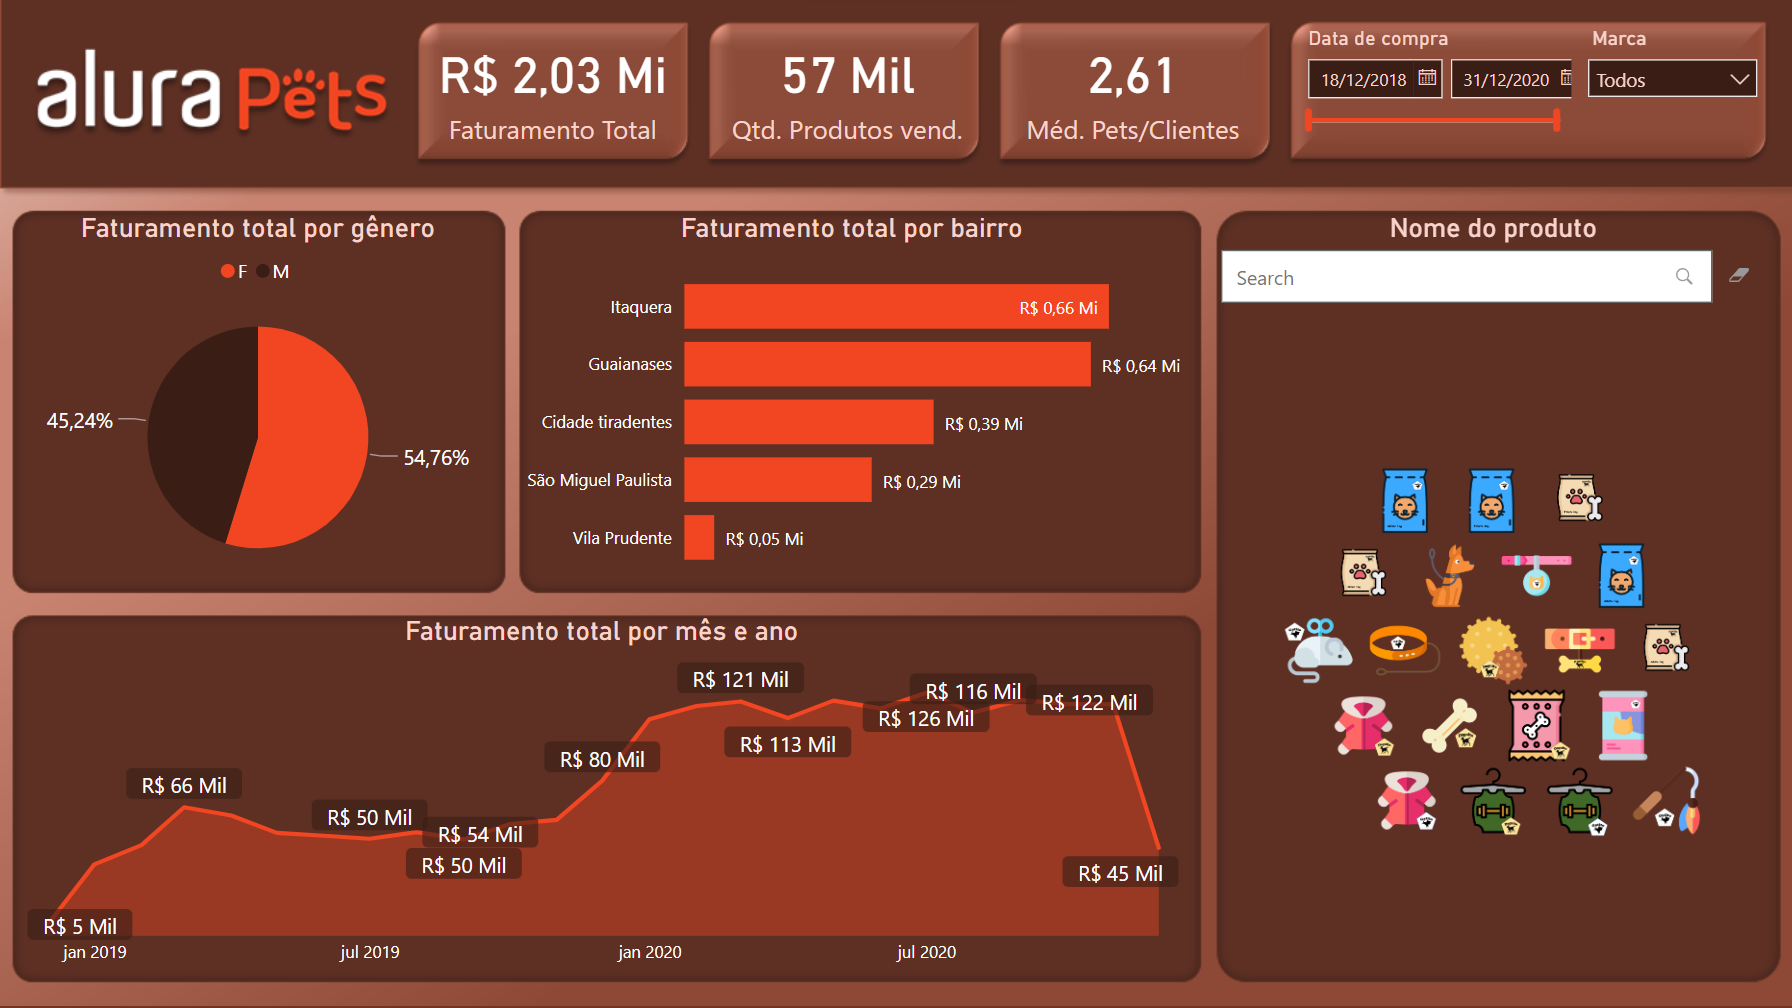

This screenshot's page, from the dashboard's own definition file:
{"tool":"powerbi","page":{"name":"Dashboard","canvas":[1280,720],"ordinal":0},"visuals":[{"type":"card","fields":{"Values":["Sum(Vendas.Faturamento)"]},"box":[298.1,15.8,194.4,93.6],"z":0},{"type":"card","fields":{"Values":["Avg(Clientes.Pets)"]},"box":[715.7,15.8,187.2,93.6],"z":1000},{"type":"card","fields":{"Values":["Sum(Vendas.Quantidade)"]},"box":[506.9,15.8,195.8,93.6],"z":2000},{"type":"pieChart","title":"Faturamento total por gênero","fields":{"Category":["Clientes.Gênero"],"Y":["Vendas.Faturamento total"]},"box":[5.8,151.2,357.1,270.7],"z":3000},{"type":"clusteredBarChart","title":"Faturamento total por bairro","fields":{"Category":["Clientes.Bairro"],"Y":["Vendas.Faturamento total"]},"box":[362.9,151.2,491,270.7],"z":4000},{"type":"areaChart","title":"Faturamento total por mês e ano","fields":{"Y":["Vendas.Faturamento total"],"Category":["Vendas.Data de compra.Variation.Hierarquia de datas.Ano","Vendas.Data de compra.Variation.Hierarquia de datas.Trimestre","Vendas.Data de compra.Variation.Hierarquia de datas.Mês","Vendas.Data de compra.Variation.Hierarquia de datas.Dia"]},"box":[5.8,439.2,848.2,259.2],"z":5000},{"type":"slicer","fields":{"Values":["Vendas.Data de compra"]},"box":[921.3,14.2,214.6,94.9],"z":6000},{"type":"slicer","fields":{"Values":["Produtos.Marca"]},"box":[1135.9,14.2,129.5,94],"z":7000},{"type":"ImageGrid_FC5183B9_926C_45E0_B5F7_0CE9EAF1DA9B","fields":{"ImageURLHQ":["Produtos.Url img"]},"box":[866.9,230.4,398.9,468],"z":8000},{"type":"textFilter25A4896A83E0487089E2B90C9AE57C8A","title":"Nome do produto","fields":{"field":["Produtos.Nome produto"]},"box":[867.2,151.6,406.1,78.9],"z":9000}]}

Visuals, with their boxes in screenshot pixels (x1, y1, x2, y2), scaled from the page's 1280x720 canvas onto the 1792x1008 screenshot:
card - Sum(Vendas.Faturamento): rect(417, 22, 690, 153)
card - Avg(Clientes.Pets): rect(1002, 22, 1264, 153)
card - Sum(Vendas.Quantidade): rect(710, 22, 984, 153)
"Faturamento total por gênero" pieChart: rect(8, 212, 508, 591)
"Faturamento total por bairro" clusteredBarChart: rect(508, 212, 1195, 591)
"Faturamento total por mês e ano" areaChart: rect(8, 615, 1196, 978)
slicer - Vendas.Data de compra: rect(1290, 20, 1590, 153)
slicer - Produtos.Marca: rect(1590, 20, 1772, 151)
ImageGrid_FC5183B9_926C_45E0_B5F7_0CE9EAF1DA9B - Produtos.Url img: rect(1214, 323, 1772, 978)
"Nome do produto" textFilter25A4896A83E0487089E2B90C9AE57C8A: rect(1214, 212, 1783, 323)
